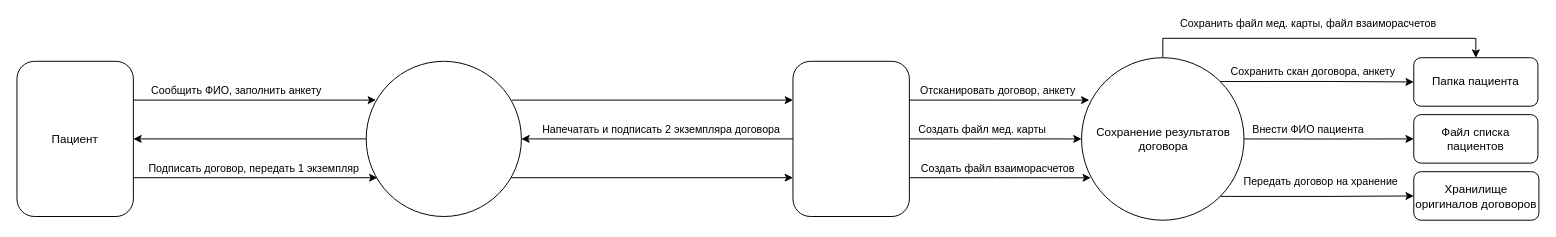
The diagram is 1556 pixels wide and 237 high, and some of its shapes have lost their labels. Here are the shapes that lost their labels. From the top down, the centre of each, then its label:
At point (443, 138): "Заключение договора".
At point (850, 138): "Администратор ресепшен".
